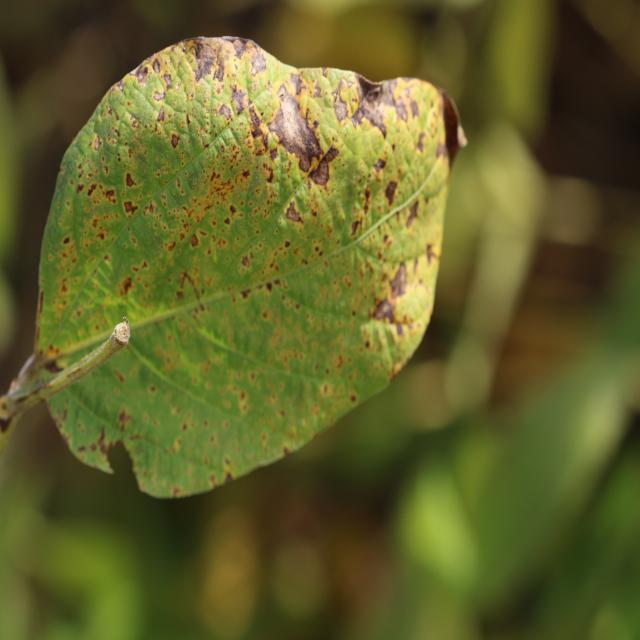Bacterial_Blight: (266, 79, 345, 190), (104, 440, 138, 489), (380, 261, 410, 308), (56, 230, 82, 279), (192, 40, 220, 80), (246, 102, 270, 146), (31, 286, 45, 361), (178, 270, 202, 303), (230, 84, 248, 115), (113, 317, 131, 346), (0, 399, 14, 434), (249, 49, 267, 76), (6, 373, 23, 400), (384, 179, 398, 207), (406, 198, 421, 224), (43, 356, 64, 374), (134, 63, 151, 84), (116, 408, 131, 431), (435, 137, 448, 162), (426, 242, 439, 263), (416, 131, 427, 154), (120, 276, 133, 295), (123, 200, 138, 216), (97, 426, 107, 448), (312, 79, 323, 98), (125, 172, 137, 188), (153, 88, 166, 102), (170, 133, 181, 149), (113, 369, 125, 383), (156, 106, 165, 122), (265, 167, 274, 183), (223, 470, 234, 483), (241, 255, 251, 269), (93, 135, 102, 150), (105, 188, 116, 200), (96, 229, 107, 241), (87, 183, 97, 196), (190, 233, 199, 247), (166, 240, 176, 252), (76, 181, 85, 194), (115, 80, 124, 92), (62, 235, 71, 245), (241, 289, 250, 299), (265, 282, 273, 293), (242, 168, 250, 179), (176, 289, 183, 300), (106, 104, 113, 115), (240, 391, 247, 402), (77, 445, 86, 453), (230, 204, 237, 214), (350, 394, 357, 403), (284, 240, 291, 248), (365, 340, 371, 349), (224, 217, 230, 225)
Soybean: (0, 37, 465, 497)
